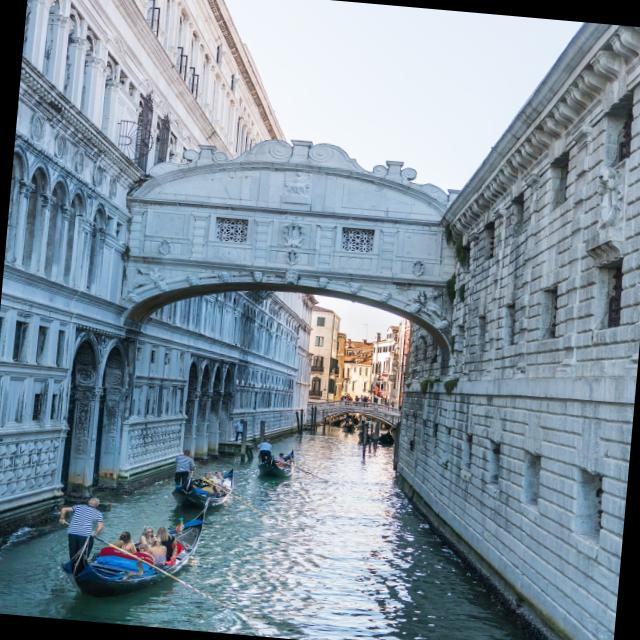boat: (48, 482, 220, 620), (166, 440, 247, 522)
